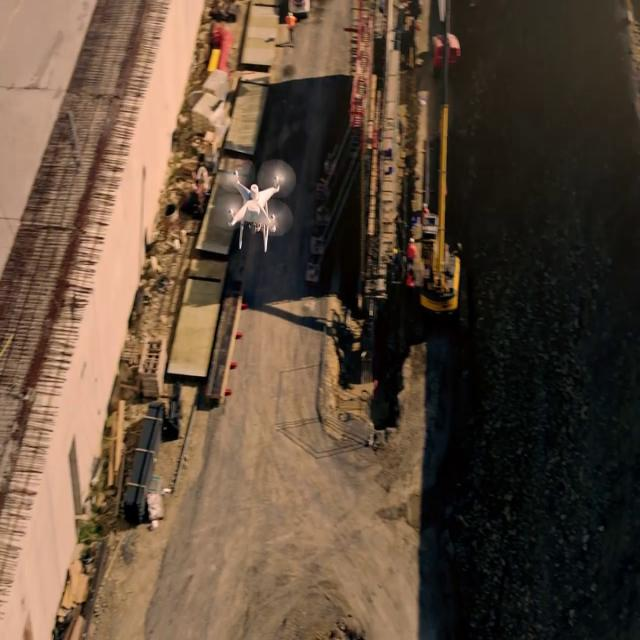drone: (215, 158, 297, 248)
